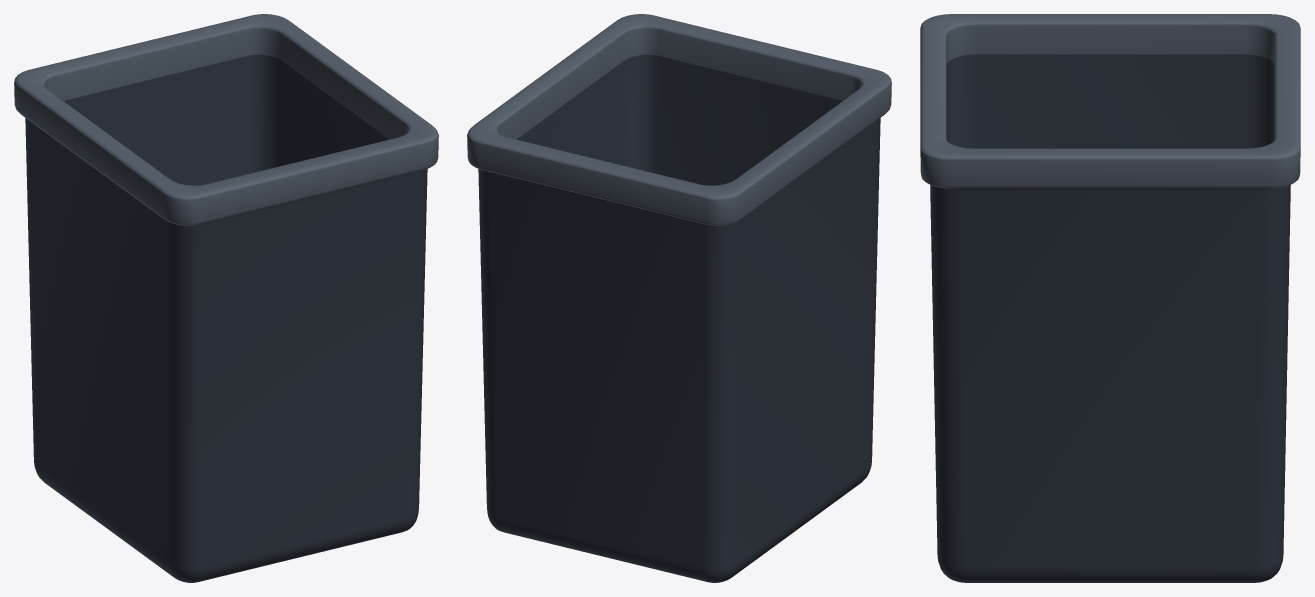
The model's file is waste_bin.fbx.
3 renders of one model, left to right at view 1: azimuth 30°, elevation 25°; view 2: azimuth 150°, elevation 25°; view 3: azimuth 270°, elevation 25°, orthographic. The views are drawn at different scales.
Visible parts, largest first — view 1: Cube; view 2: Cube; view 3: Cube.
Boxes of the visible parts, left/top/right/bottom form: Cube: left=14, top=14, right=438, bottom=582; Cube: left=467, top=14, right=891, bottom=582; Cube: left=920, top=14, right=1300, bottom=582.
Bounding box in the file's own units: 198 × 280 × 220.
